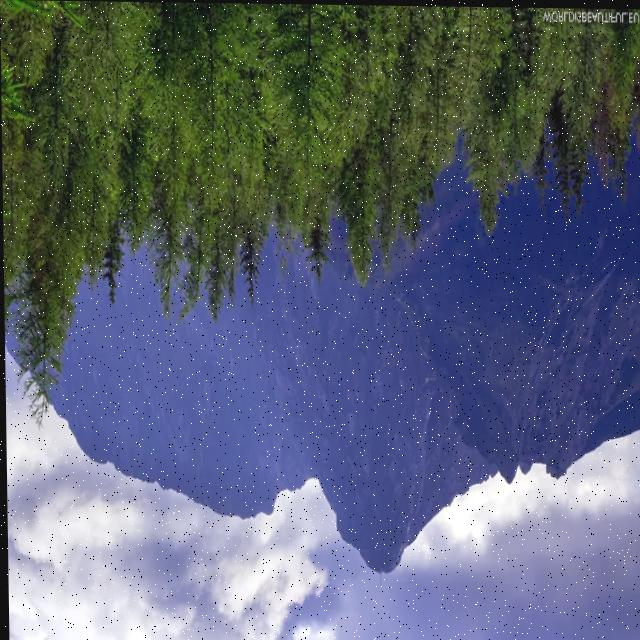Giewont: (303, 490, 457, 640)
Maly giewont: (457, 399, 605, 545)
